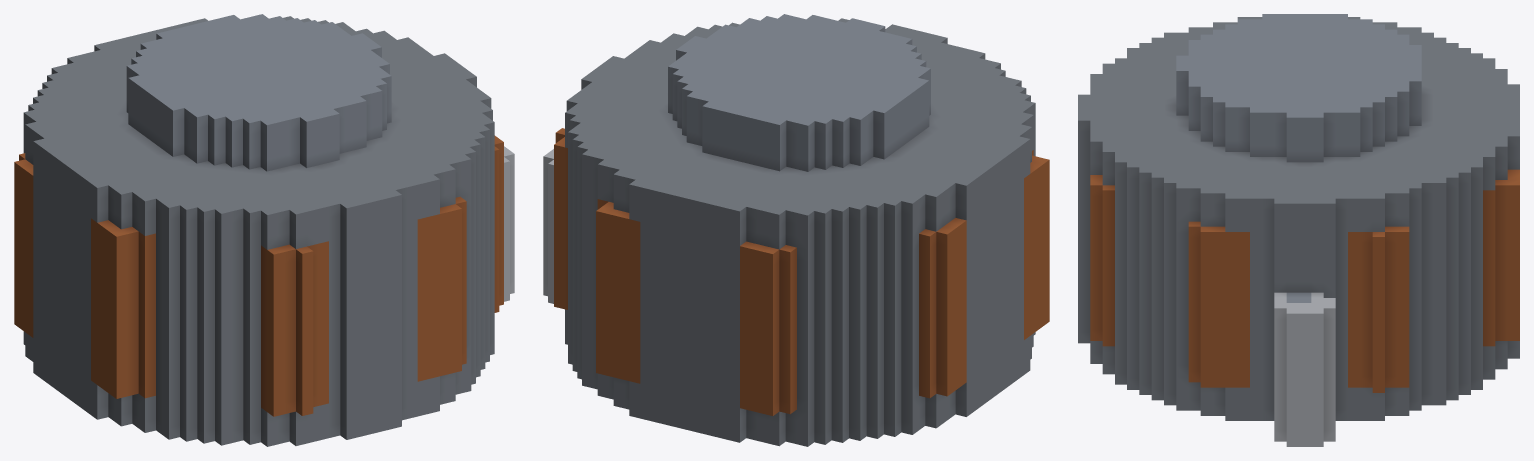
File: eng_hall_l.glb
3 views of the same model, side by side, from view 1: azimuth 30°, elevation 25°; view 2: azimuth 150°, elevation 25°; view 3: azimuth 270°, elevation 25° (orthographic). The views are drawn at different scales.
Parts seen in each view (by area): view 1: eng_hall_l; view 2: eng_hall_l; view 3: eng_hall_l.
Boxes of the visible parts, box(x1,y1,x2,y2) form: eng_hall_l: box(14, 14, 514, 446); eng_hall_l: box(543, 14, 1049, 446); eng_hall_l: box(1078, 14, 1519, 446).
Bounding box in the file's own units: 0.625 × 0.375 × 0.5625.
